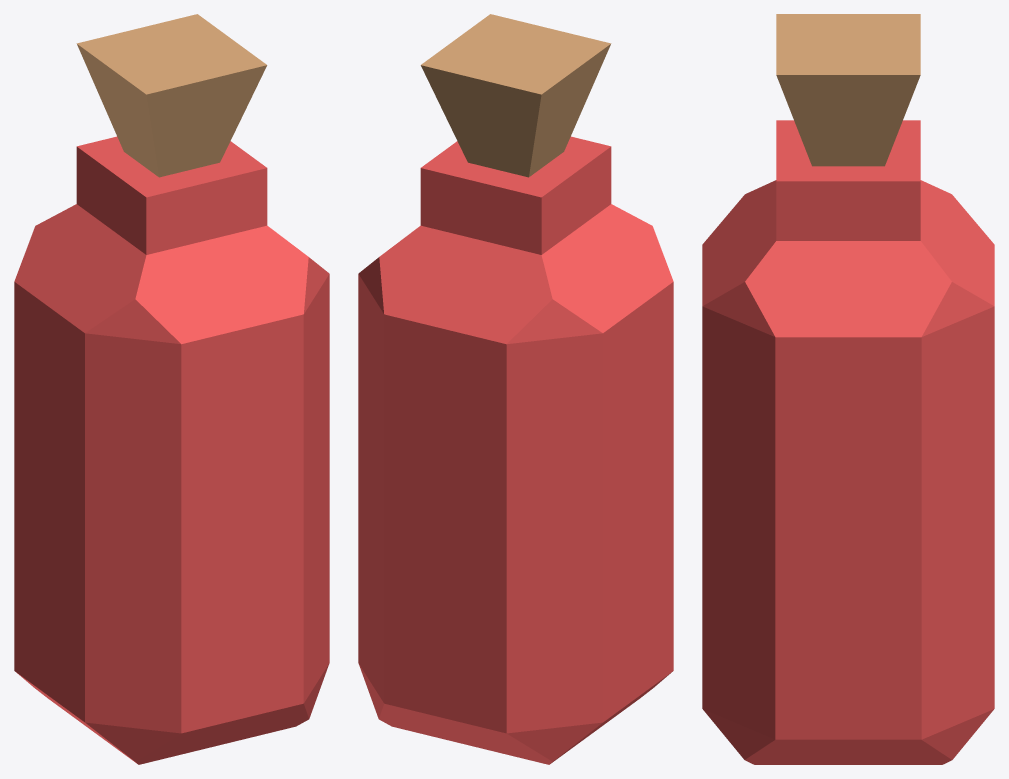
Rendered from Healing.fbx.
The picture shows the model from 3 angles, left to right: view 1: azimuth 30°, elevation 25°; view 2: azimuth 150°, elevation 25°; view 3: azimuth 270°, elevation 25°; orthographic projection. The views are drawn at different scales.
Visible parts, largest first — view 1: Elixir_Of_Health.001; view 2: Elixir_Of_Health.001; view 3: Elixir_Of_Health.001.
Boxes of the visible parts, x1,y1,x2,y2 form: Elixir_Of_Health.001: (14,14,329,764); Elixir_Of_Health.001: (358,14,673,764); Elixir_Of_Health.001: (702,14,994,764).
Bounding box in the file's own units: 0.2548 × 0.6549 × 0.2548.
